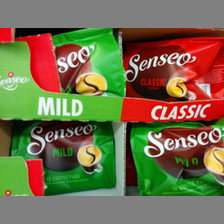coffee: (9, 120, 116, 196), (131, 122, 224, 197), (124, 36, 223, 103), (47, 29, 124, 96)
